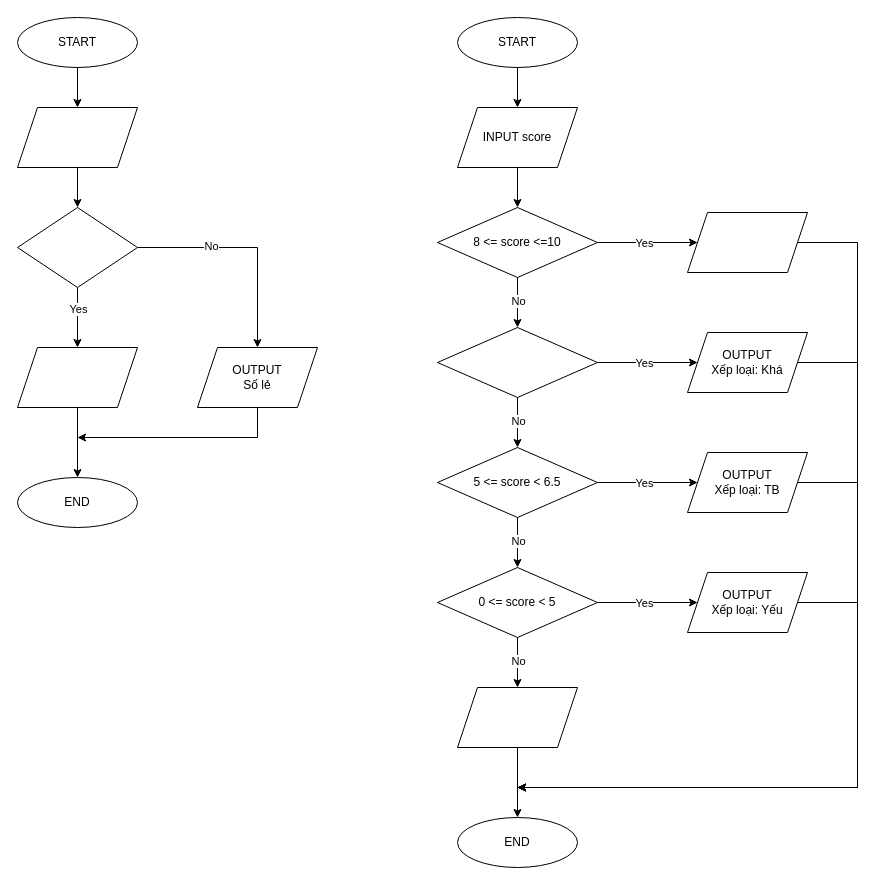
This 883x885 diagram has some shape labels left out. Each missing label, with the centre of its shape:
"6.5 <= score < 8" belongs at pixel 517 362.
"INPUT n" belongs at pixel 77 137.
"n % 2 == 0" belongs at pixel 77 247.
"OUTPUT Không hợp lệ" belongs at pixel 517 717.
"OUTPUT Số chẵn" belongs at pixel 77 377.
"OUTPUT Xếp loại: Giỏi" belongs at pixel 747 242.
